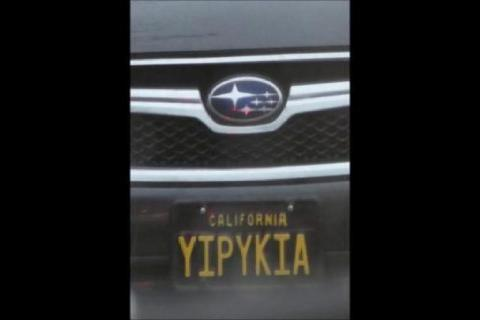LicensePlate: (172, 200, 315, 278)
